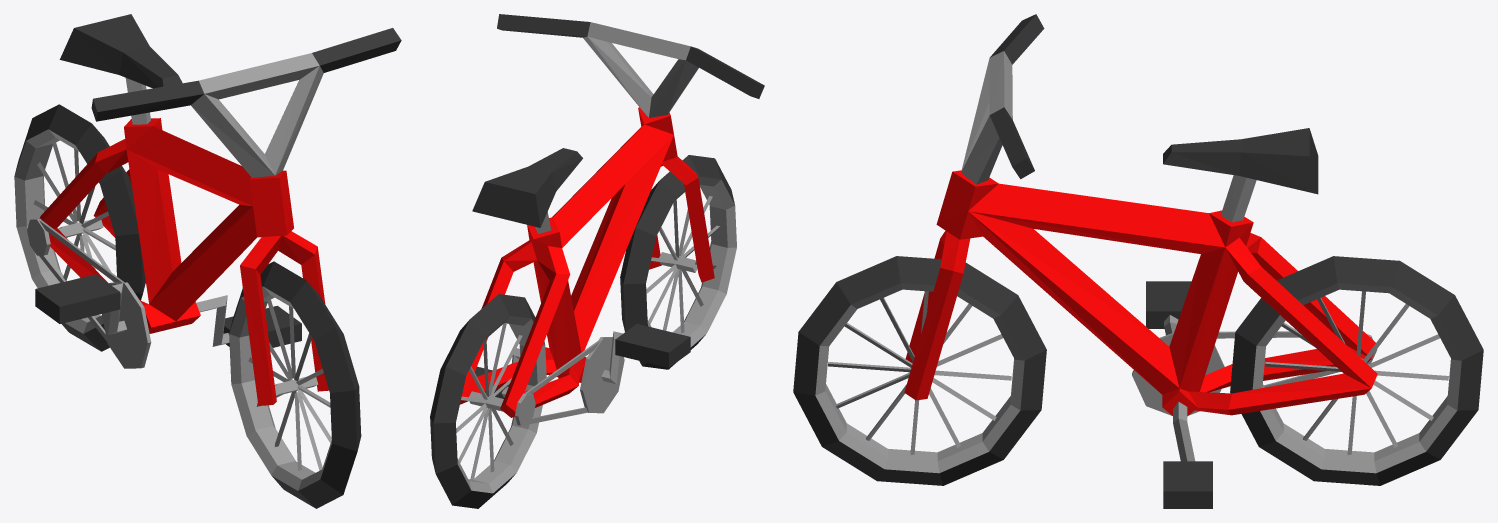
The model's file is bicycle.obj.
3 renders of one model, left to right at view 1: azimuth 30°, elevation 25°; view 2: azimuth 150°, elevation 25°; view 3: azimuth 270°, elevation 25°, orthographic. The views are drawn at different scales.
Visible parts, largest first — view 1: Bicycle_BicycleMesh; view 2: Bicycle_BicycleMesh; view 3: Bicycle_BicycleMesh.
Boxes of the visible parts, box(x1,y1,x2,y2) form: Bicycle_BicycleMesh: box(14, 14, 401, 508); Bicycle_BicycleMesh: box(430, 14, 764, 508); Bicycle_BicycleMesh: box(793, 14, 1483, 508).
Size of the model in its own units: 0.6532 by 0.836 by 1.28.
Materials: 3 (3 with a texture image).
